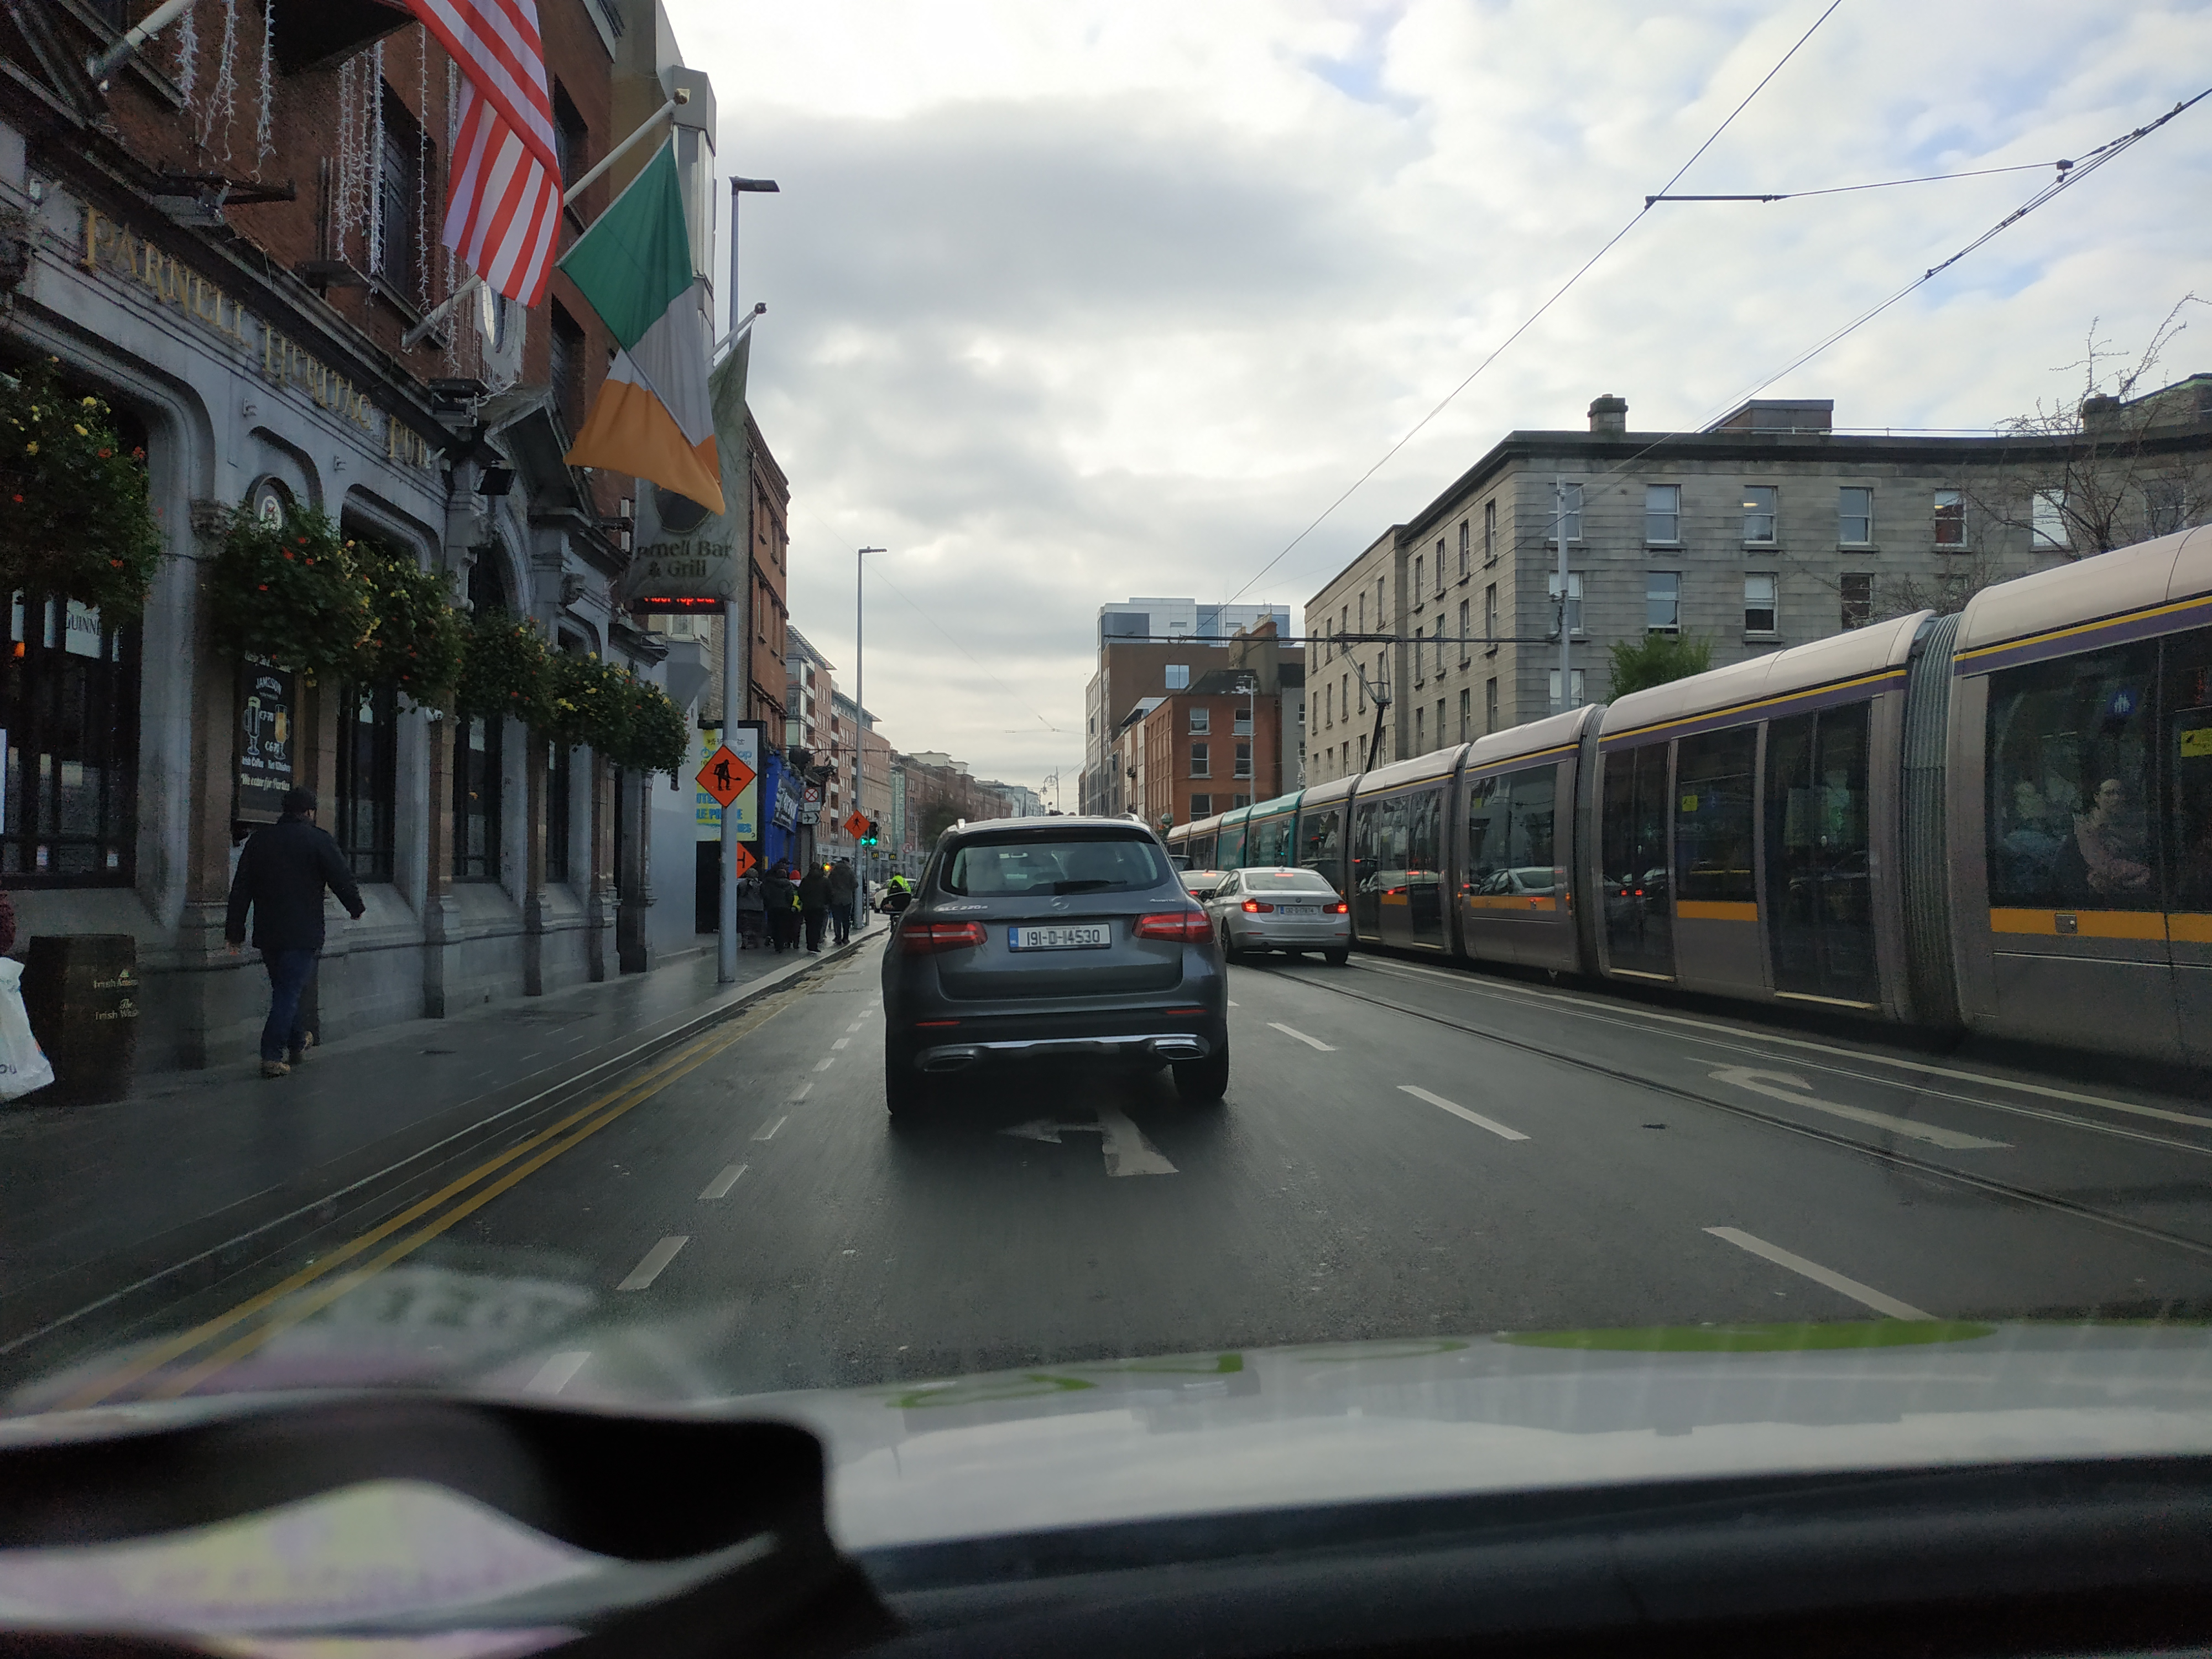Car: (883, 817, 1229, 1113), (1198, 867, 1351, 968)
Luas: (1162, 519, 2209, 1071)
Person: (229, 788, 367, 1073), (764, 869, 797, 955), (801, 862, 829, 952), (829, 858, 858, 944), (737, 869, 763, 948)
